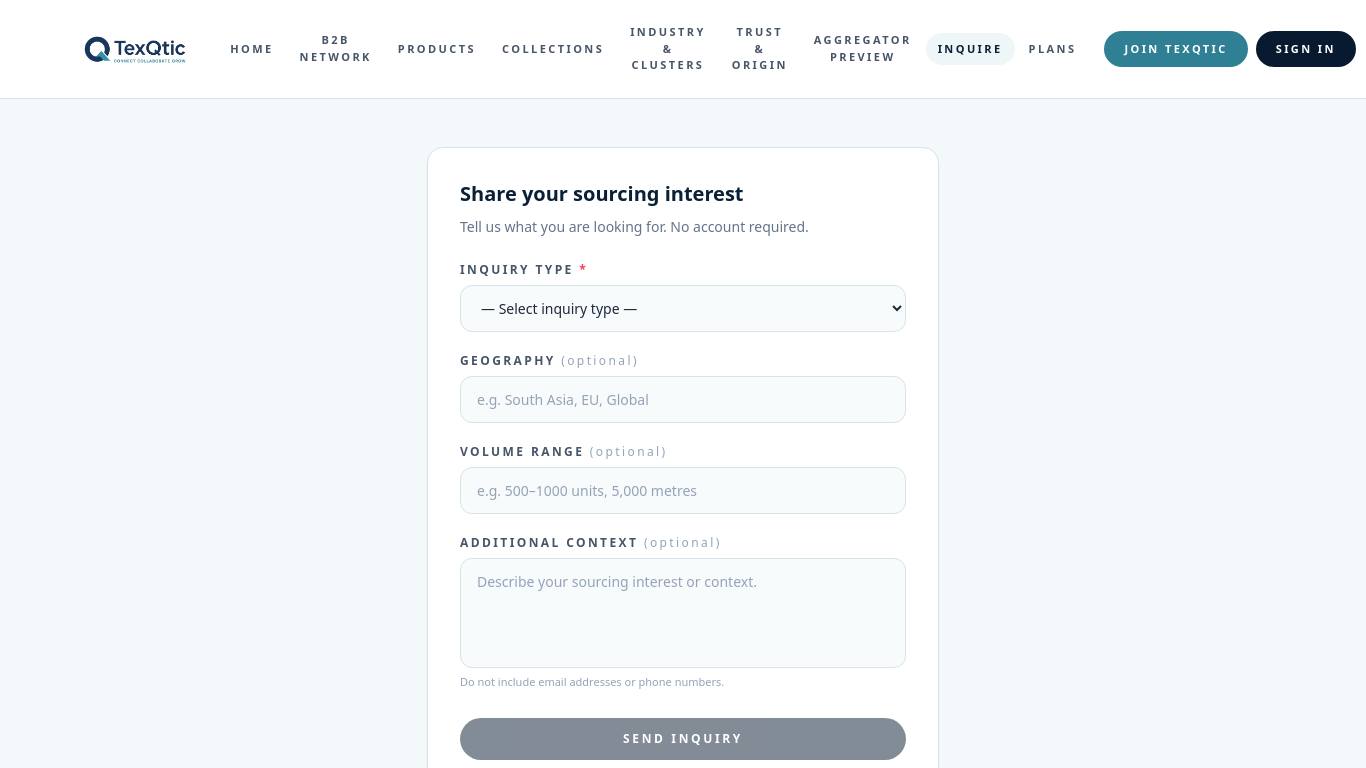
Test: PublicInquiryPage › PII-019 — general success state does not echo message content
This screenshot has width=1366, height=768.
Select "General enquiry" in the dropdown labelled "Inquiry type *" at (683, 308), box left=460, top=284, right=906, bottom=332
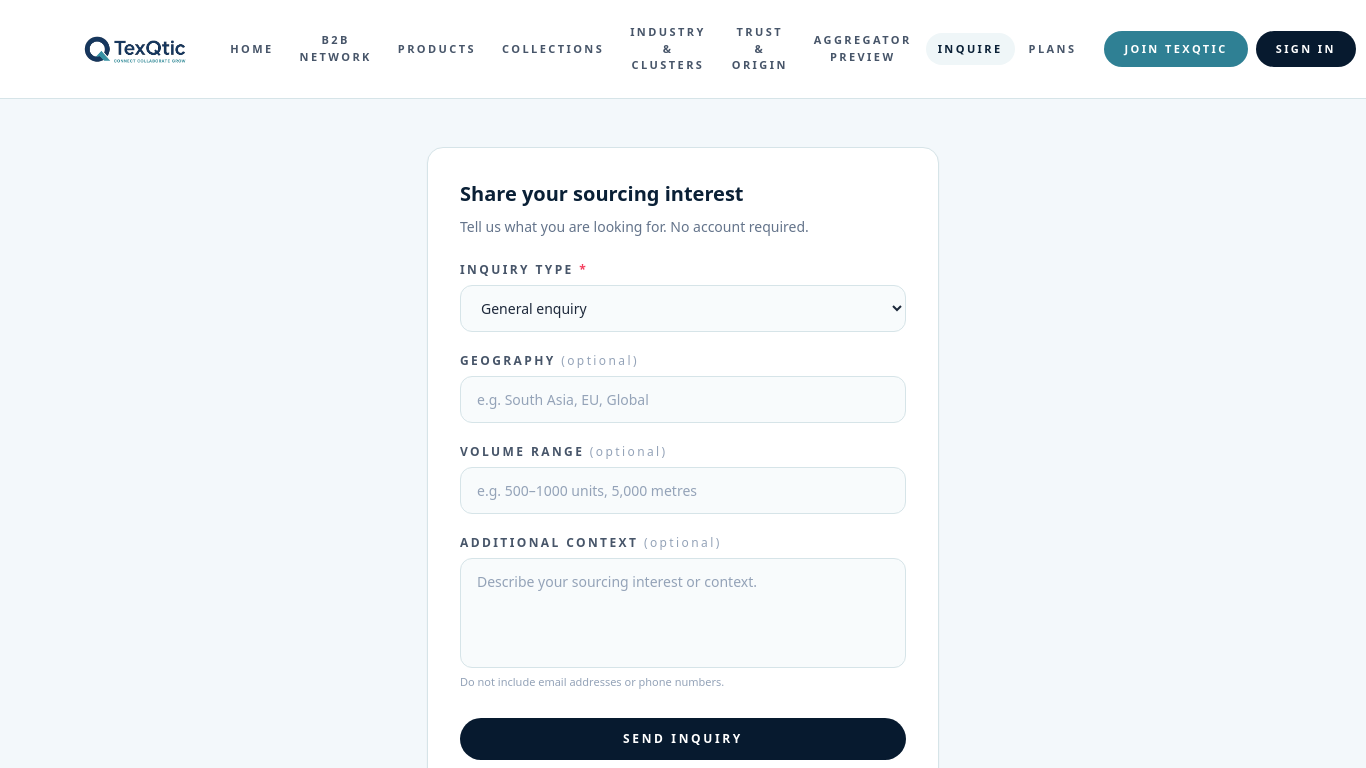
Type "Unique-token-XYZ-9a3f2b" into the text box labelled "Additional context (optional)" at (683, 612), box left=460, top=558, right=906, bottom=668
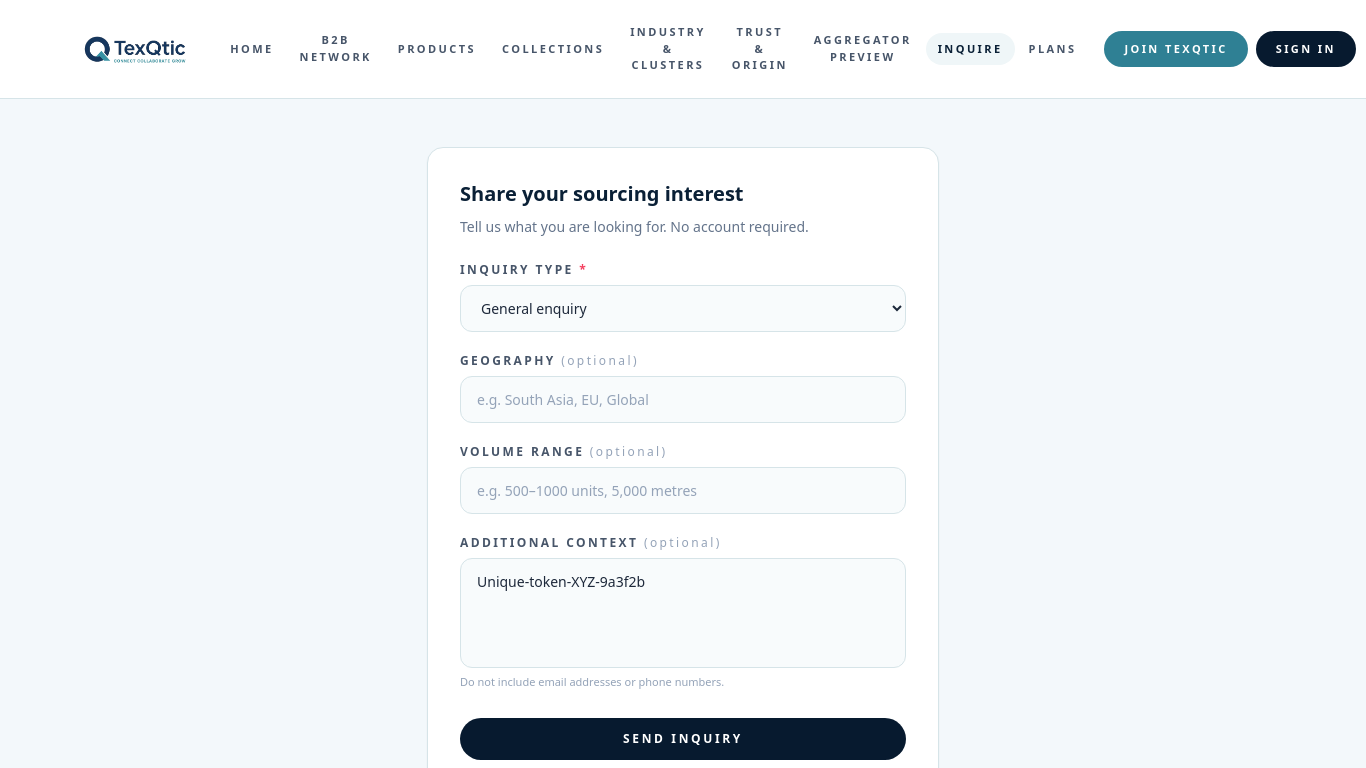
Click the button "Send inquiry" at (683, 739), box left=460, top=718, right=906, bottom=760
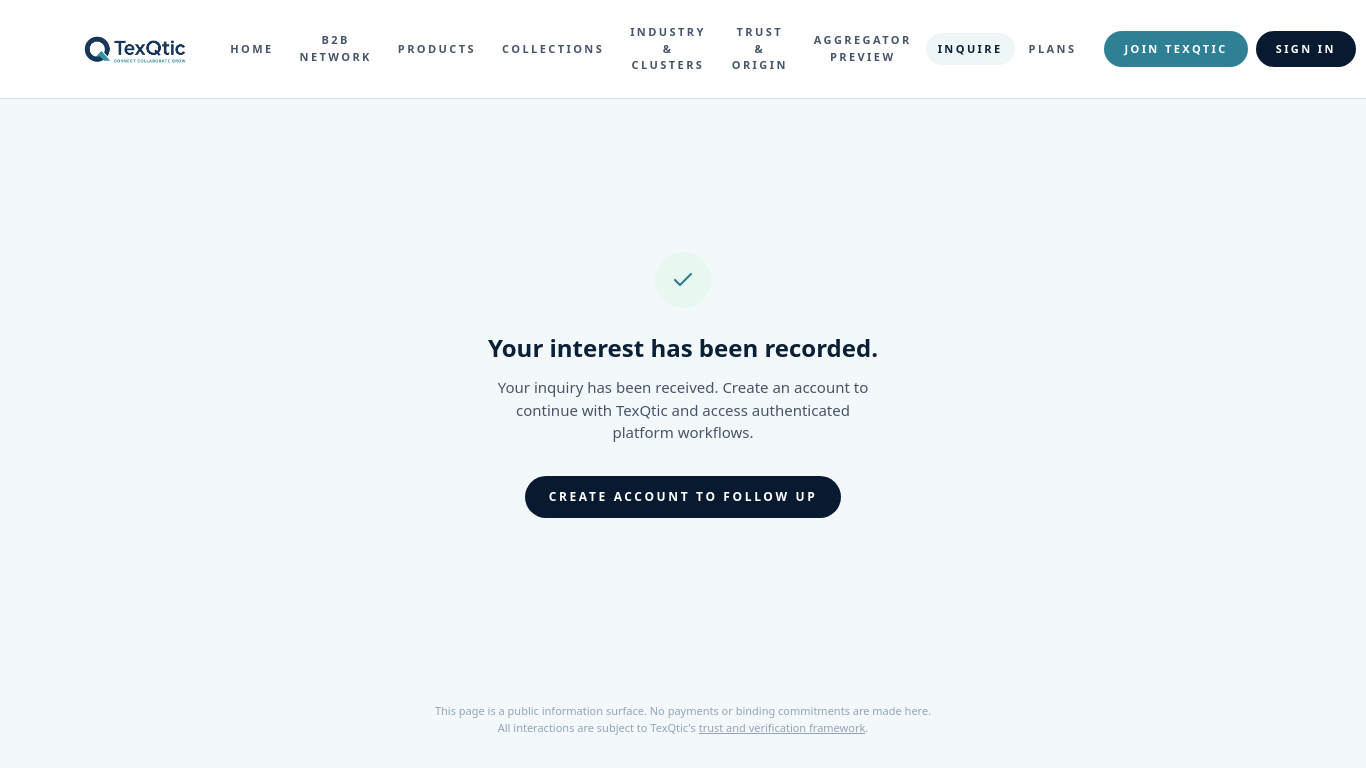
expect the text "Unique-token-XYZ-9a3f2b" is not shown: met
expect the heading "Your interest has been recorded." is shown: met, box left=488, top=332, right=878, bottom=364
